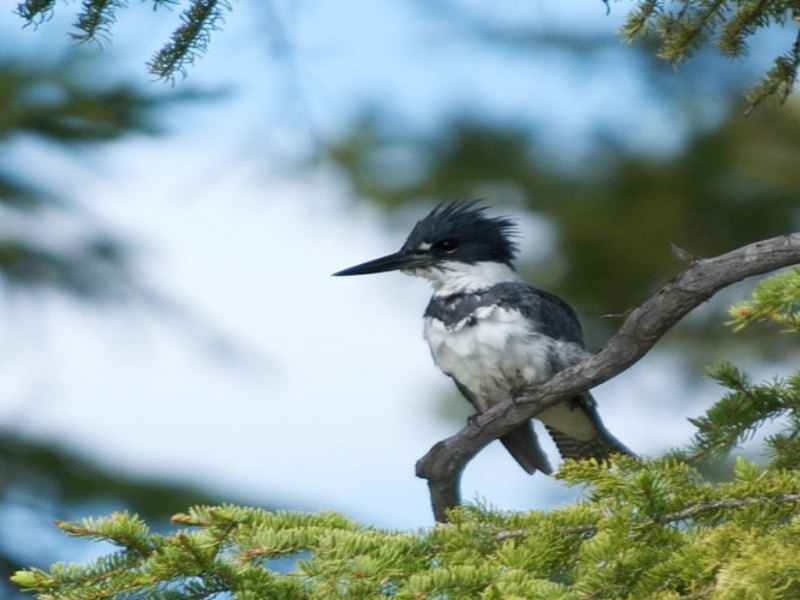kingfisher: (329, 197, 645, 495)
